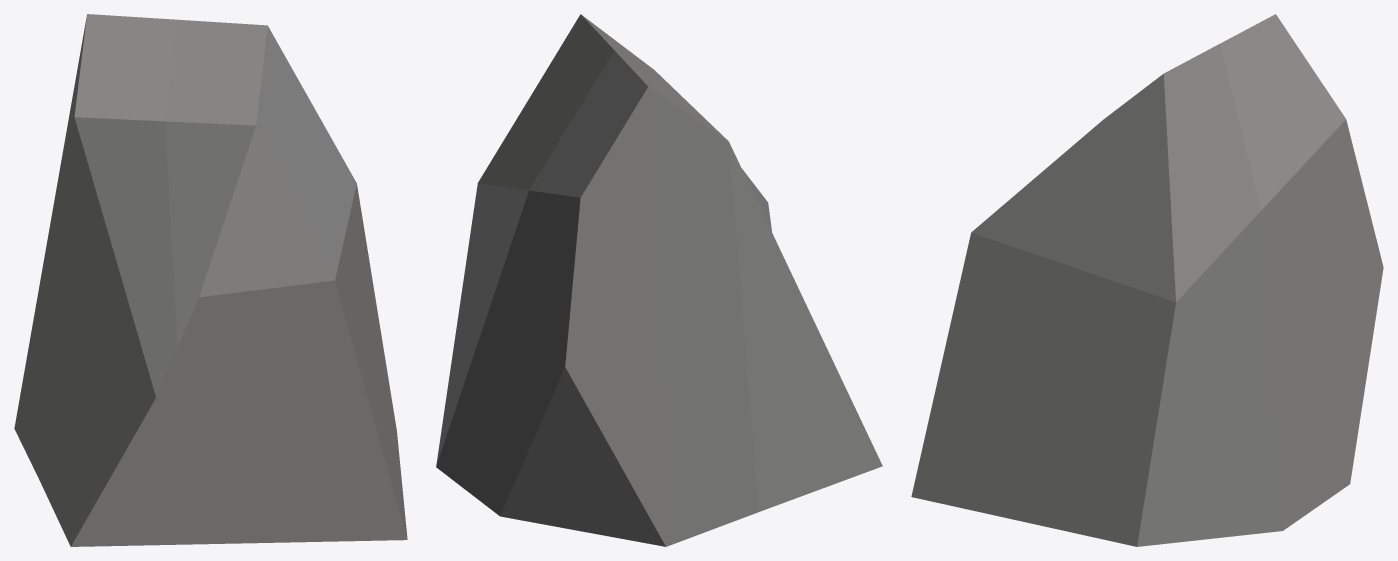
Rendered from stoneSmall.fbx.
The picture shows the model from 3 angles, left to right: view 1: azimuth 30°, elevation 25°; view 2: azimuth 150°, elevation 25°; view 3: azimuth 270°, elevation 25°; orthographic projection. The views are drawn at different scales.
Parts seen in each view (by area): view 1: stoneSmall; view 2: stoneSmall; view 3: stoneSmall.
Boxes of the visible parts, x1,y1,x2,y2 form: stoneSmall: (14, 14, 407, 546); stoneSmall: (436, 14, 882, 546); stoneSmall: (911, 14, 1383, 546).
Bounding box in the file's own units: 33.24 × 37.03 × 37.93.
1 material, 1 textured.
